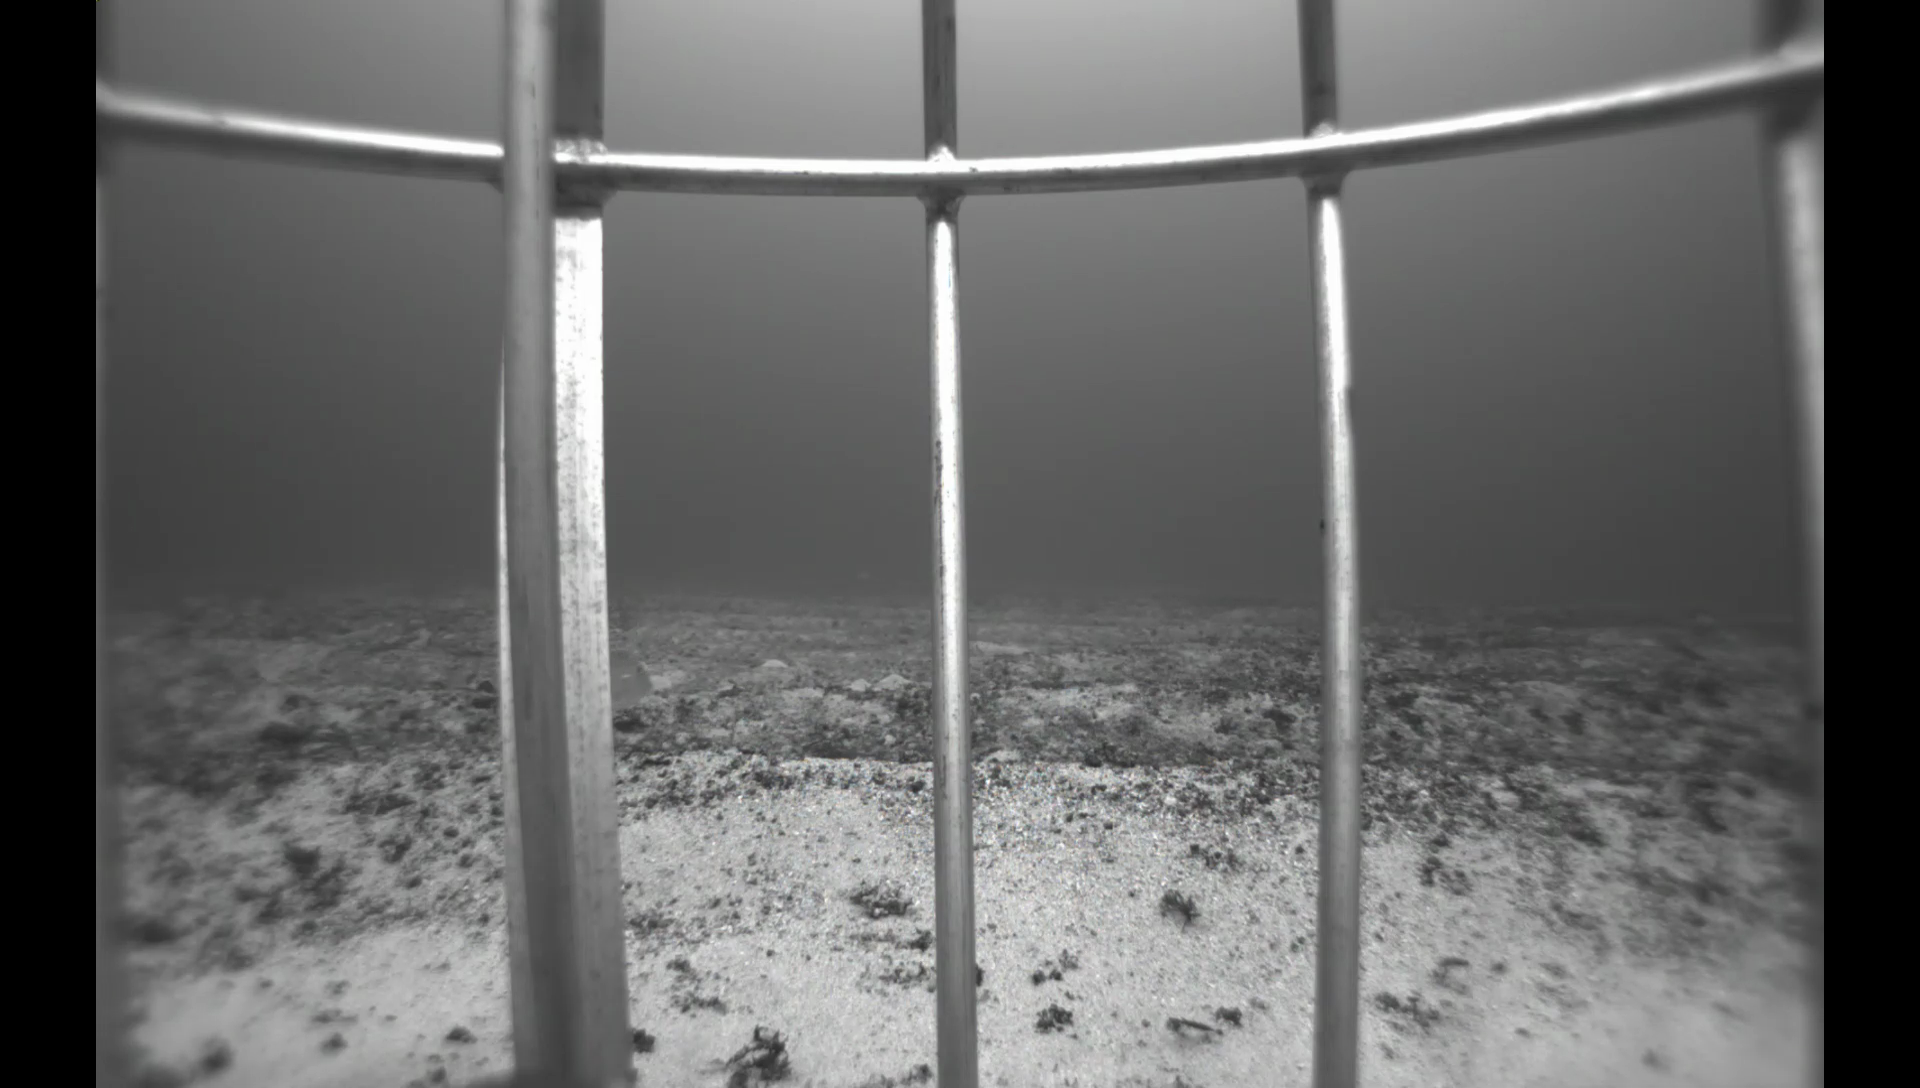CALAMUSPRORIDENS-170210605: (603, 646, 659, 719)
